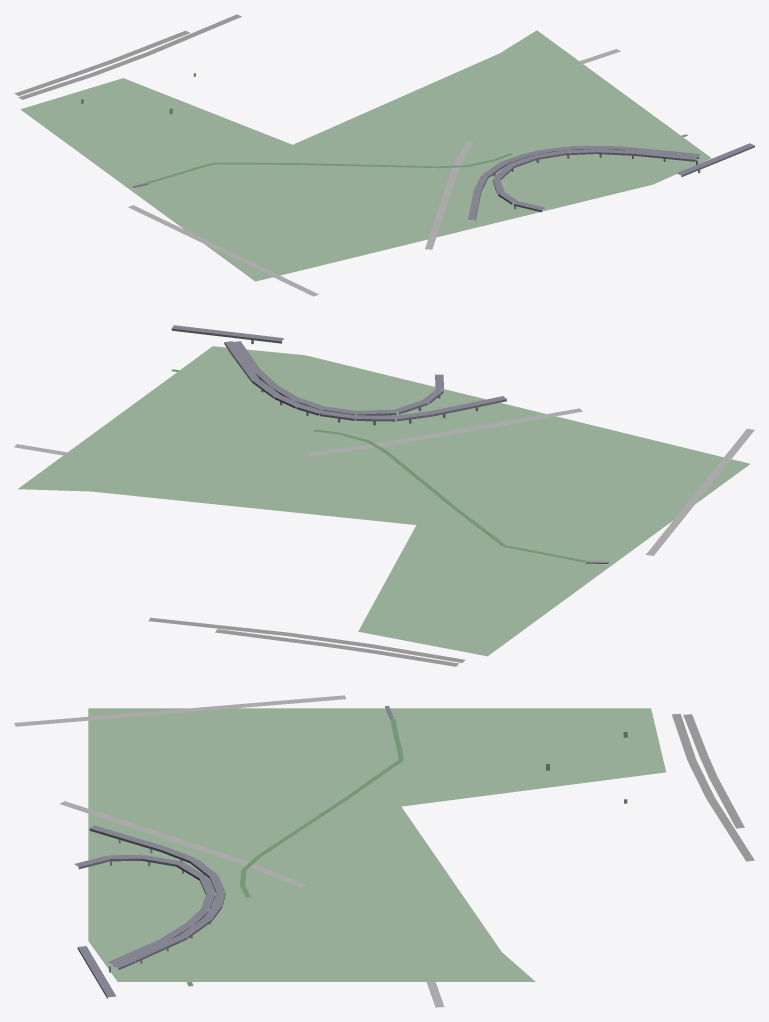
3 renders of one model, top to bottom at view 1: azimuth 30°, elevation 25°; view 2: azimuth 150°, elevation 25°; view 3: azimuth 270°, elevation 25°, orthographic. The views are drawn at different scales.
Bounding box in the file's own units: 567 × 8.15 × 572.
